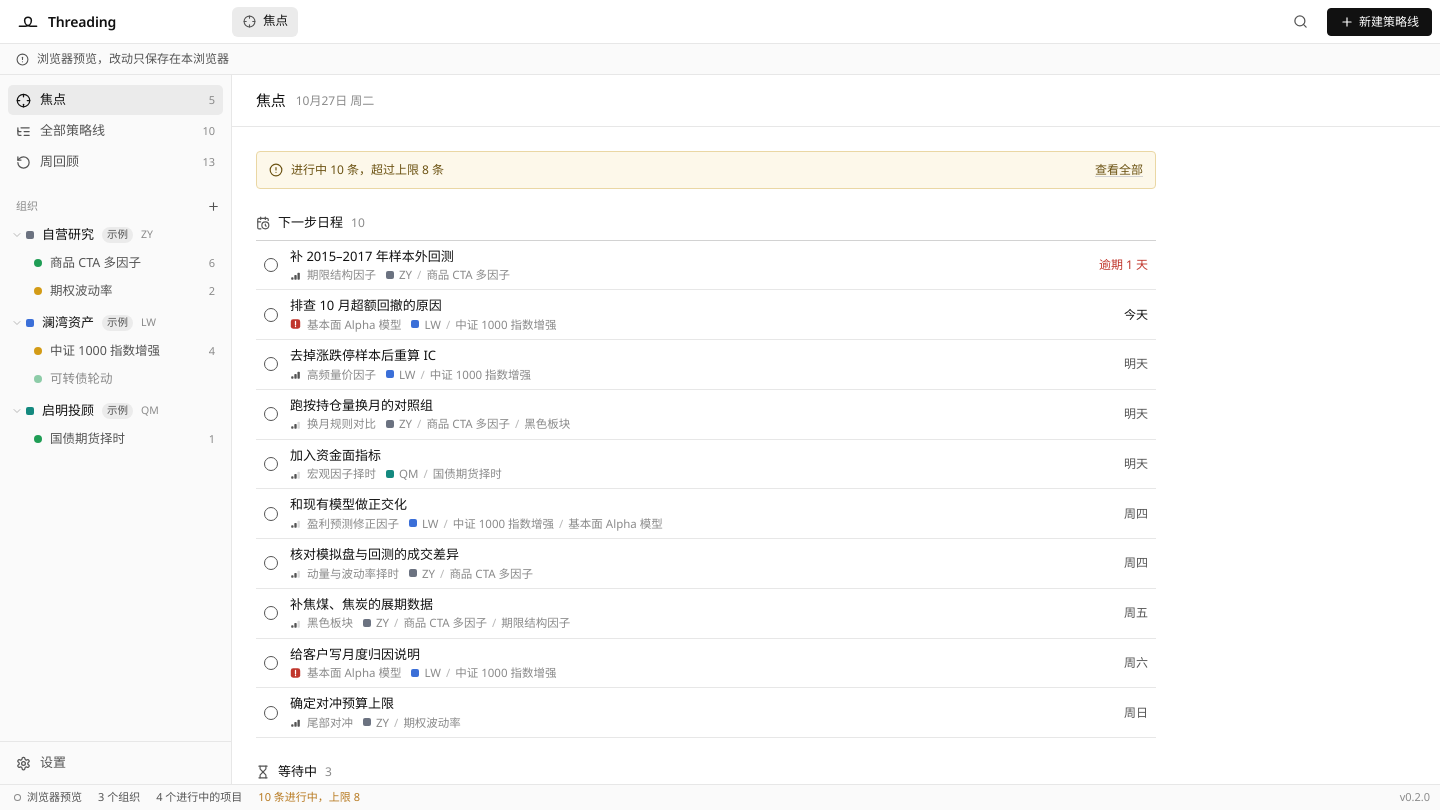
Threading › jumps anywhere through the command palette
Expected: the heading "焦点" is shown, [256, 89, 286, 112]
Type keys "{Control>}k{/Control}"
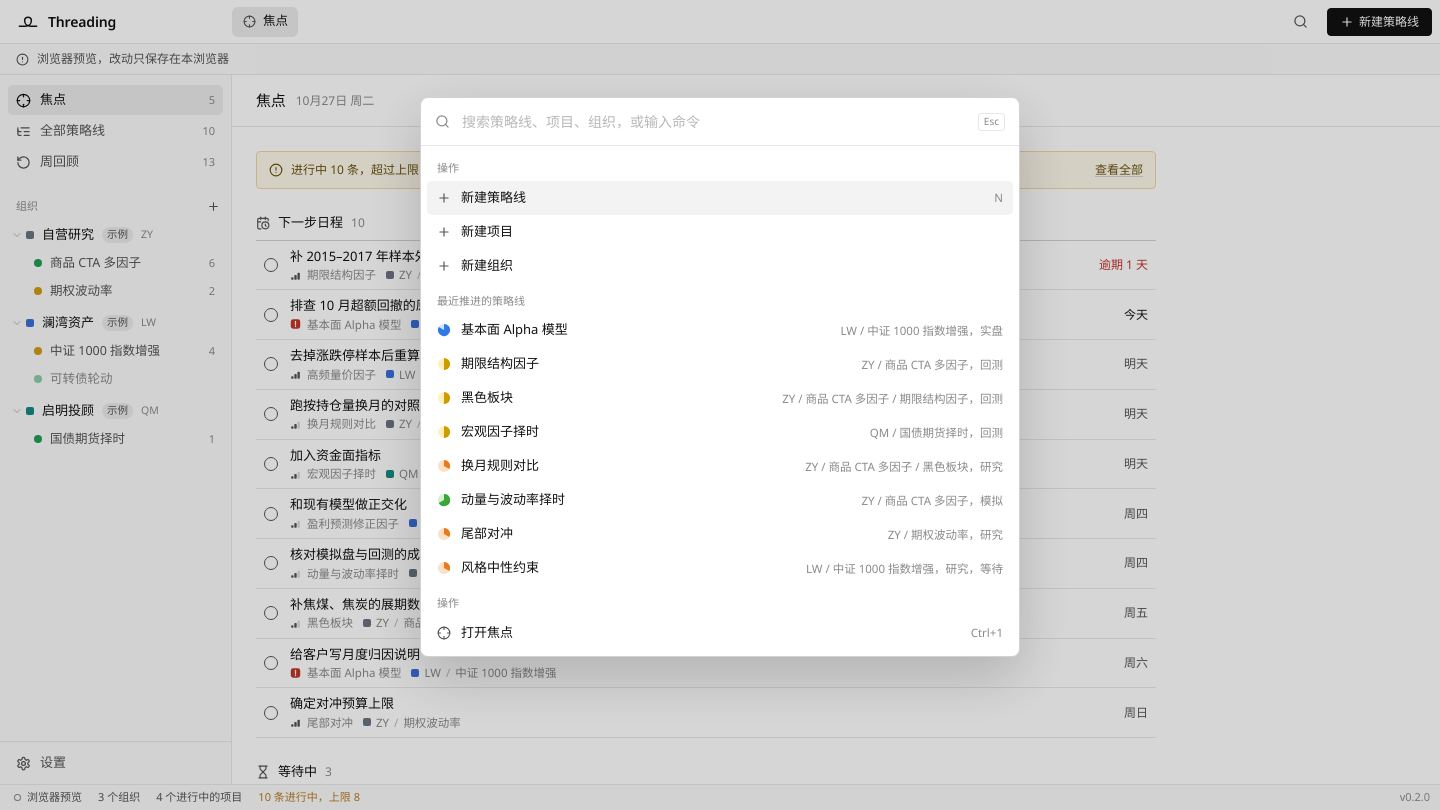
Type "宏观" into the dropdown labelled "搜索".
click(714, 122); type("宏观")  # box [460, 98, 968, 145]
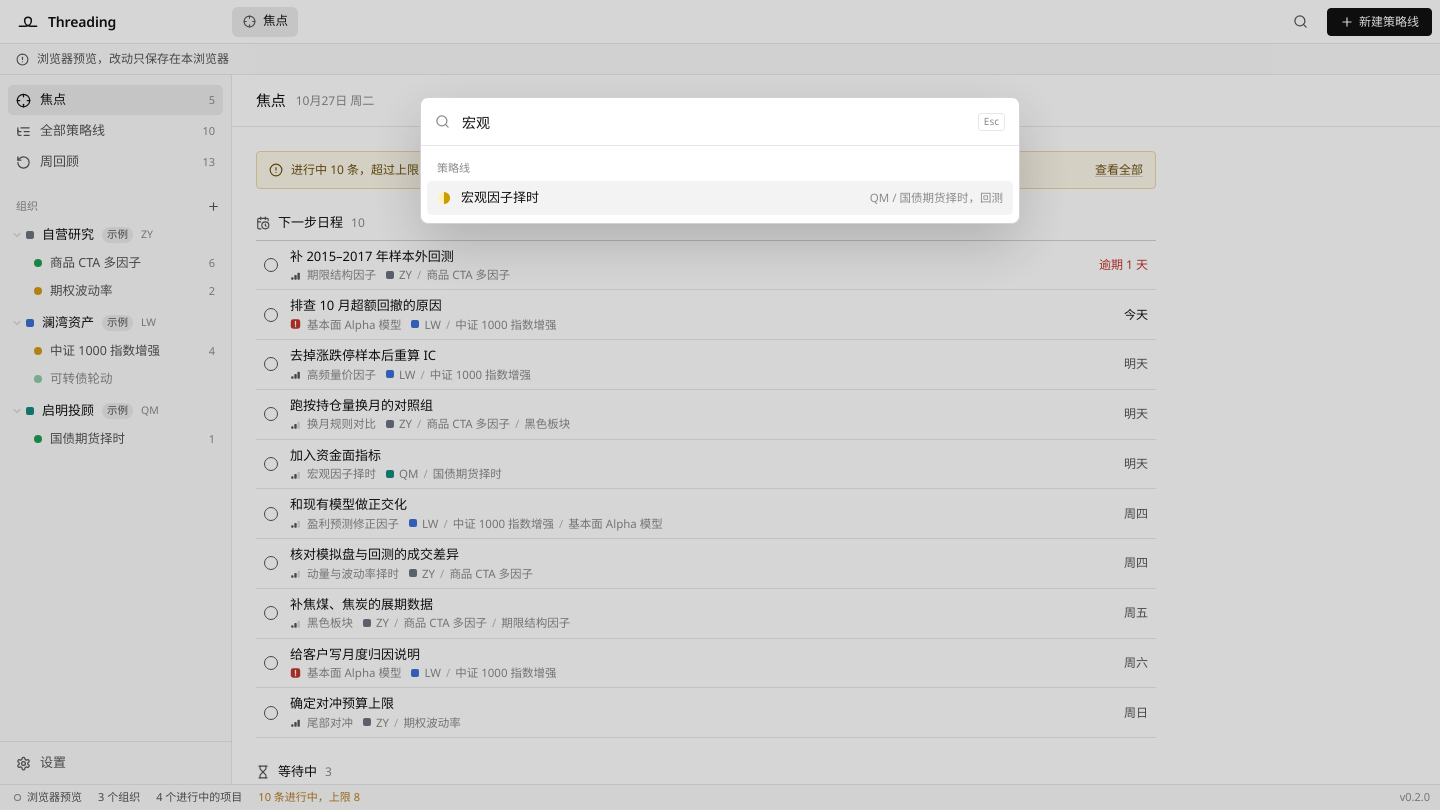
Expected: the options read "宏观因子择时QM / 国债期货择时，回测", in this order, [427, 181, 1013, 215]
Press Enter
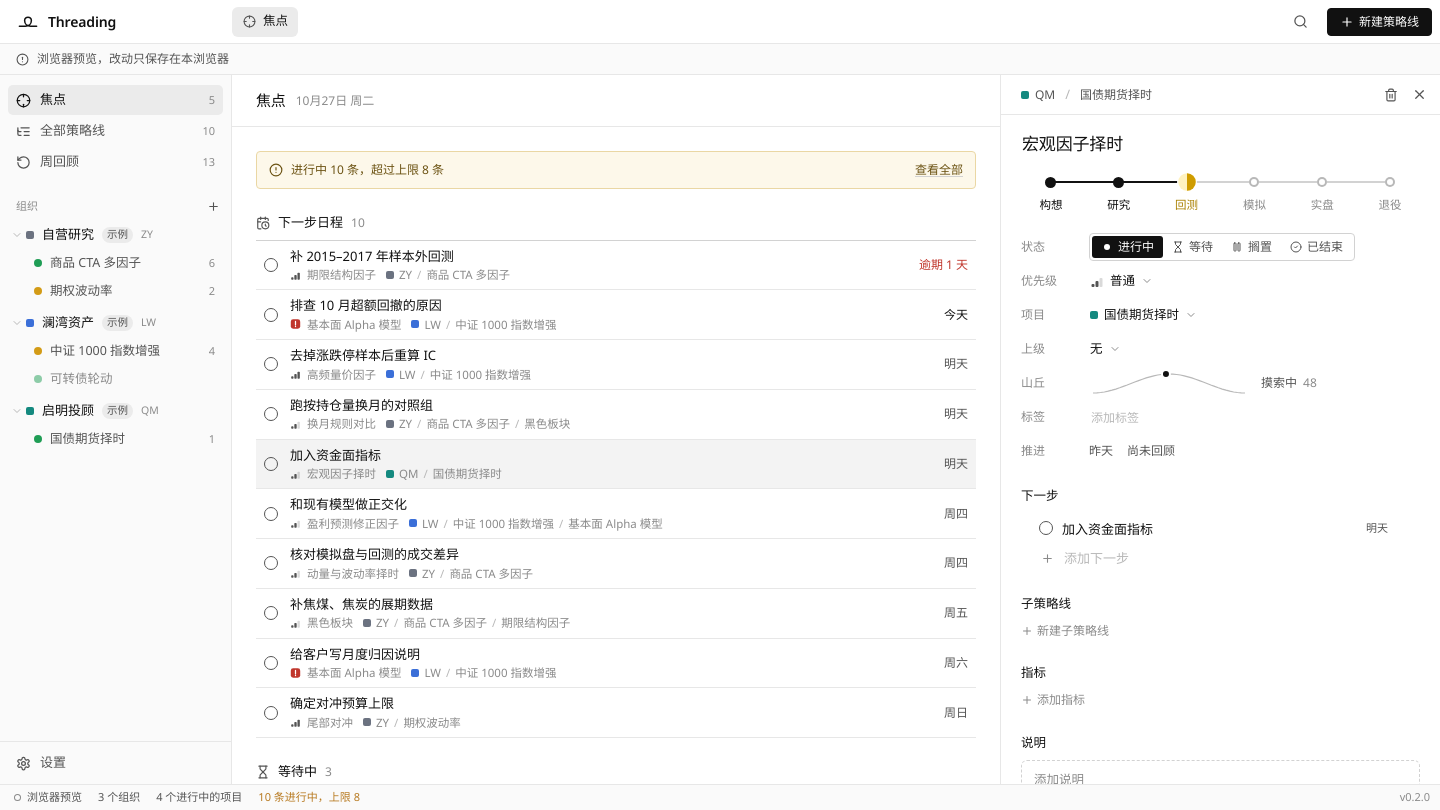
Expected: the element named "策略线：宏观因子择时" is shown, [1000, 75, 1439, 784]
